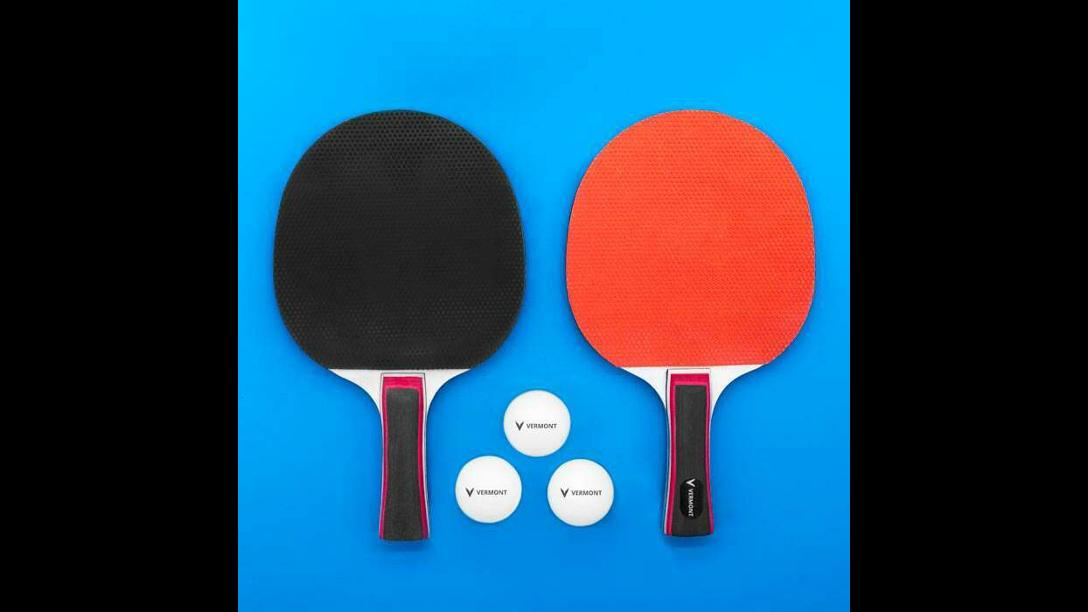Table-Tennis-Ball: (504, 390, 570, 456), (548, 459, 614, 525), (456, 456, 522, 522)
